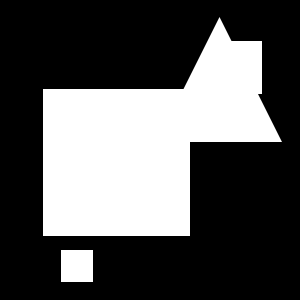circle: (43, 89, 190, 236), (209, 41, 262, 94), (61, 250, 93, 282)
triangle: (157, 17, 282, 142)
